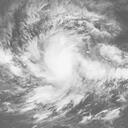cyclone: (19, 28, 108, 86)
